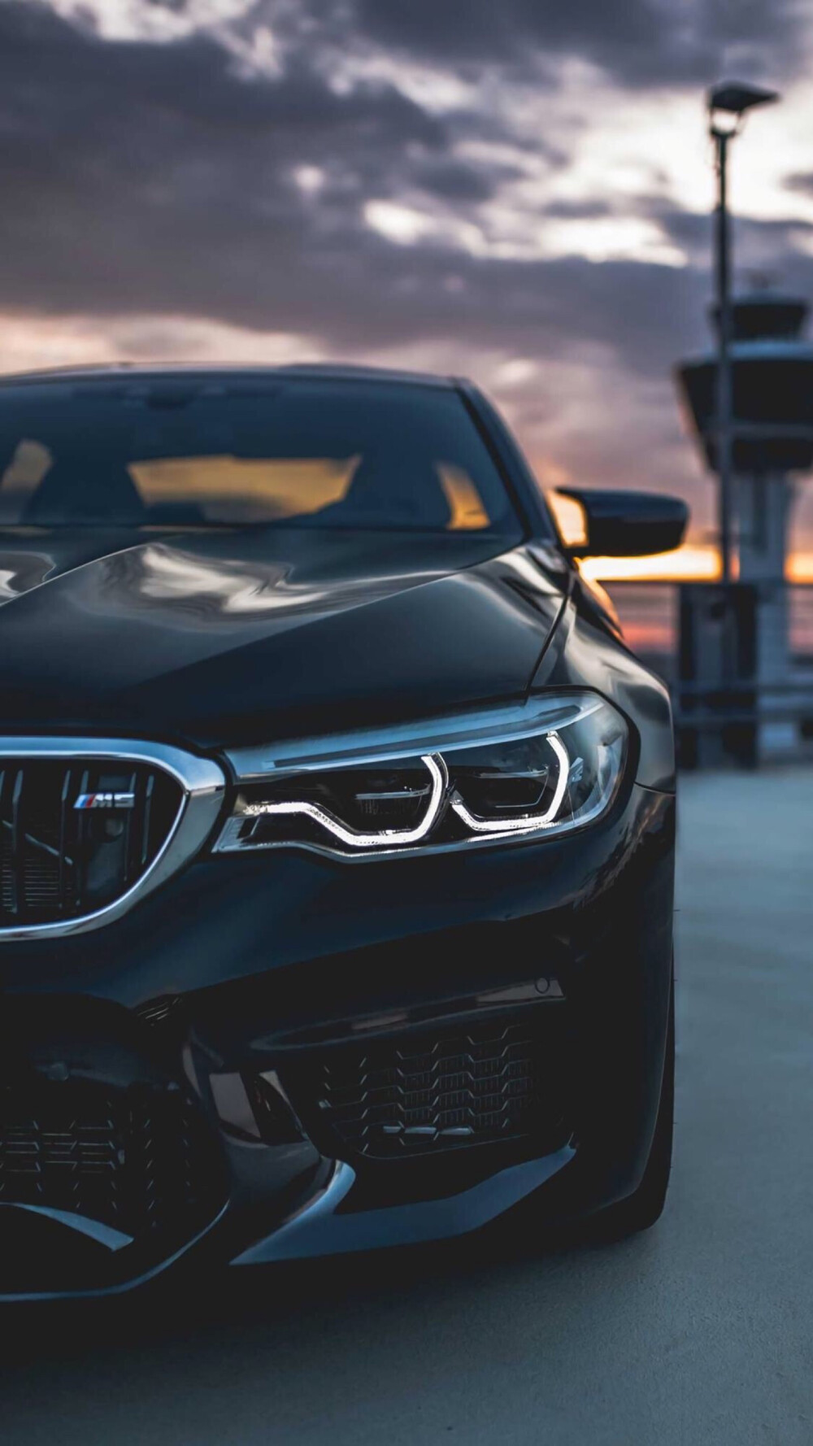other: (0, 352, 686, 1335)
